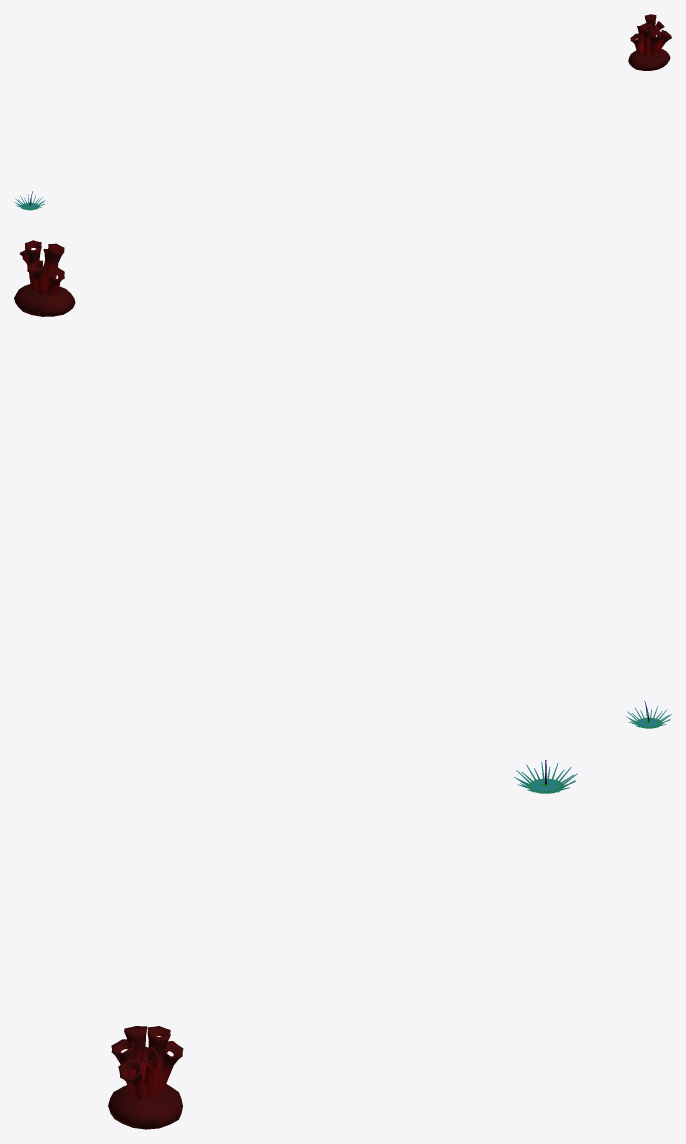
Rendered from duncan.glb.
3 views of the same model, one above another, from view 1: azimuth 30°, elevation 25°; view 2: azimuth 150°, elevation 25°; view 3: azimuth 270°, elevation 25° (orthographic). The views are drawn at different scales.
Parts seen in each view (by area): view 1: Body; view 2: Body; view 3: Body, Polyps.
Part boxes in pixels (<box>): Body: <box>628,14,671,70</box>; Body: <box>14,240,75,316</box>; Body: <box>108,1026,183,1129</box>; Polyps: <box>514,762,577,793</box>.
Size of the model in its own units: 63.79 by 15.04 by 23.51.
4 materials, 4 textured.
